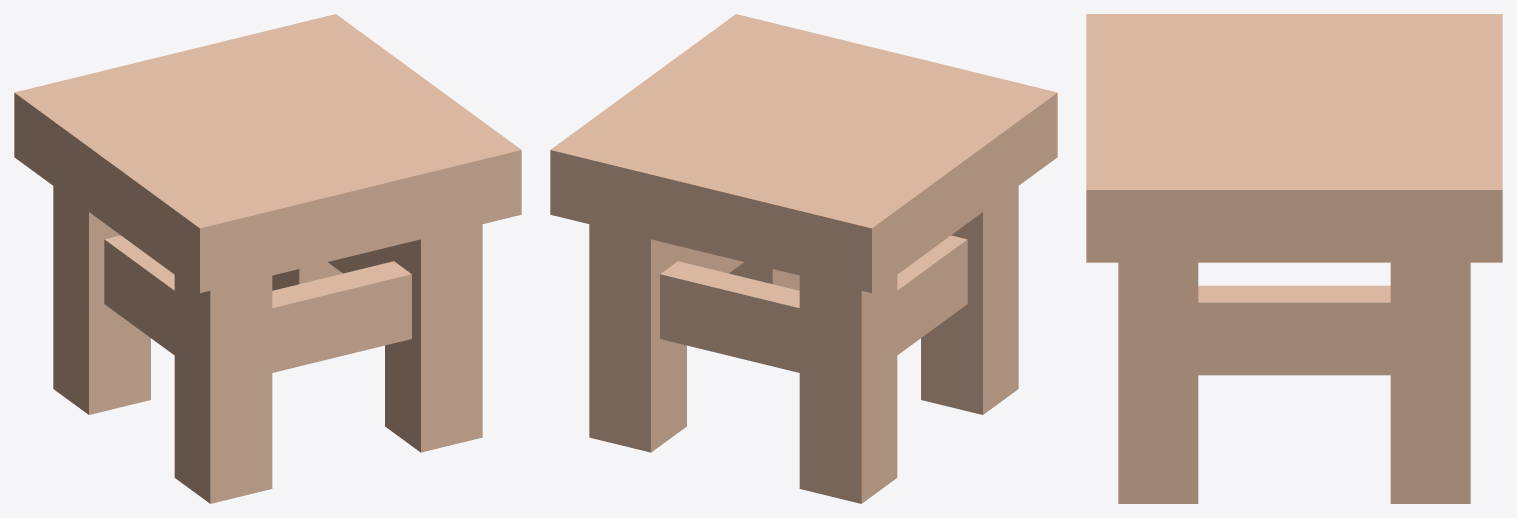
3 renders of one model, left to right at view 1: azimuth 30°, elevation 25°; view 2: azimuth 150°, elevation 25°; view 3: azimuth 270°, elevation 25°, orthographic. The views are drawn at different scales.
Parts seen in each view (by area): view 1: stallStool; view 2: stallStool; view 3: stallStool.
Part boxes in pixels (x1,y1,x2,y2): stallStool: (14,14,521,503); stallStool: (550,14,1057,503); stallStool: (1086,14,1502,503).
Bounding box in the file's own units: 0.26 × 0.2255 × 0.26.
